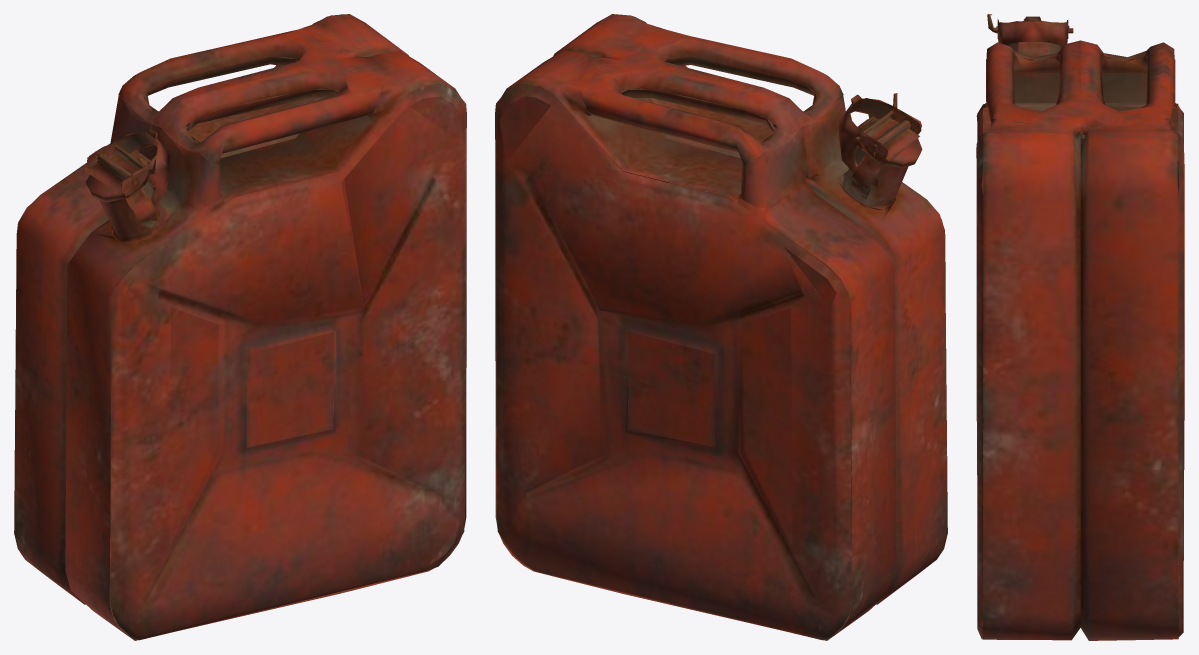
Rendered from ph_metal_jerrycan.glb.
3 views of the same model, side by side, from view 1: azimuth 30°, elevation 25°; view 2: azimuth 150°, elevation 25°; view 3: azimuth 270°, elevation 25° (orthographic). The views are drawn at different scales.
Parts seen in each view (by area): view 1: metal_jerrycan; view 2: metal_jerrycan; view 3: metal_jerrycan.
Boxes of the visible parts, <box> form: metal_jerrycan: <box>14,14,466,640</box>; metal_jerrycan: <box>495,14,947,640</box>; metal_jerrycan: <box>976,14,1184,640</box>.
Size of the model in its own units: 0.3492 by 0.4545 by 0.1708.
Materials: 1 (1 with a texture image).
